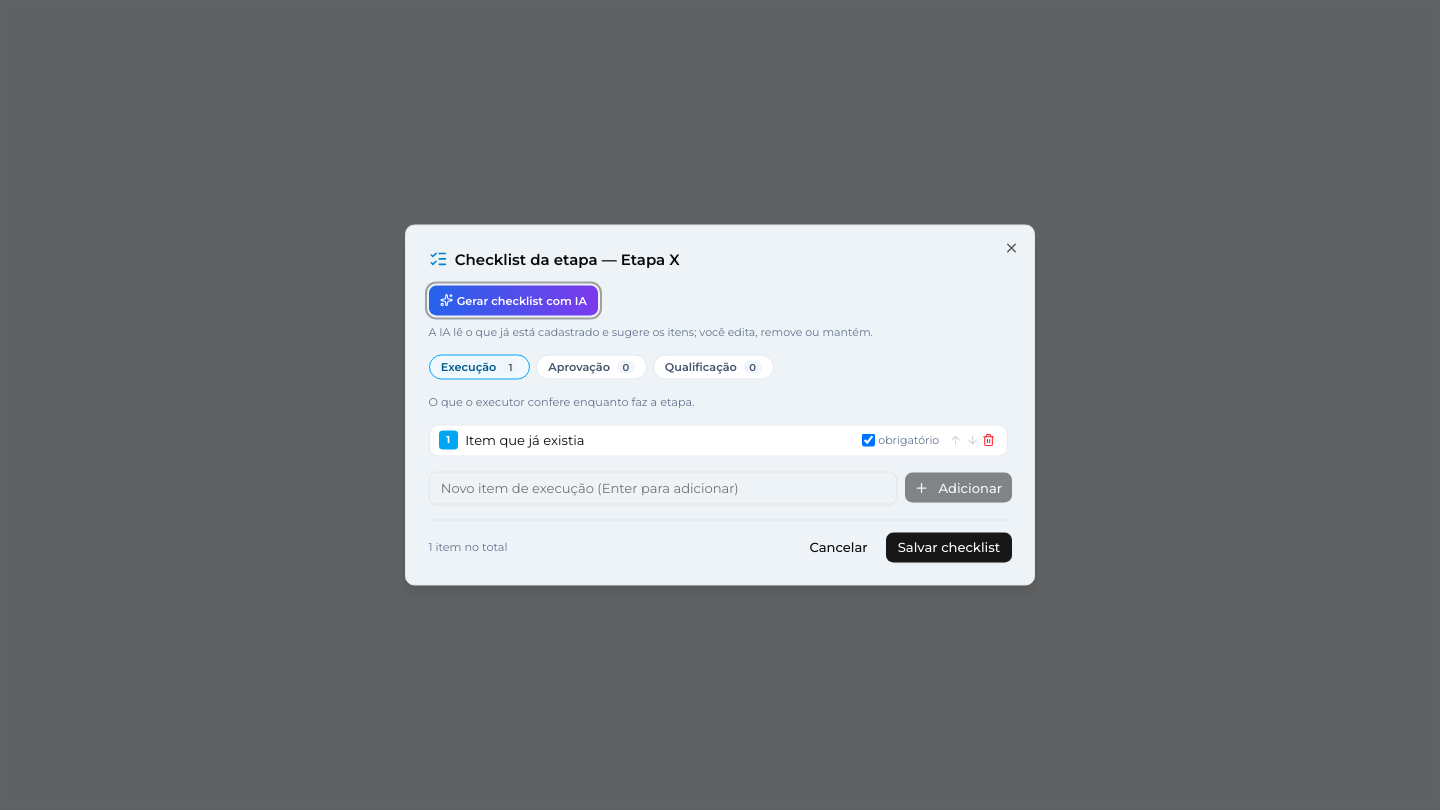
Checklist da etapa · gerar com IA › abre o painel do que será consultado, manda o que já existe e as fontes, adiciona os itens com selo IA e dá para remover
The image size is (1440, 810).
Click the button with test id "checklist-ai-open".
click(513, 300)  # box [428,286,598,316]
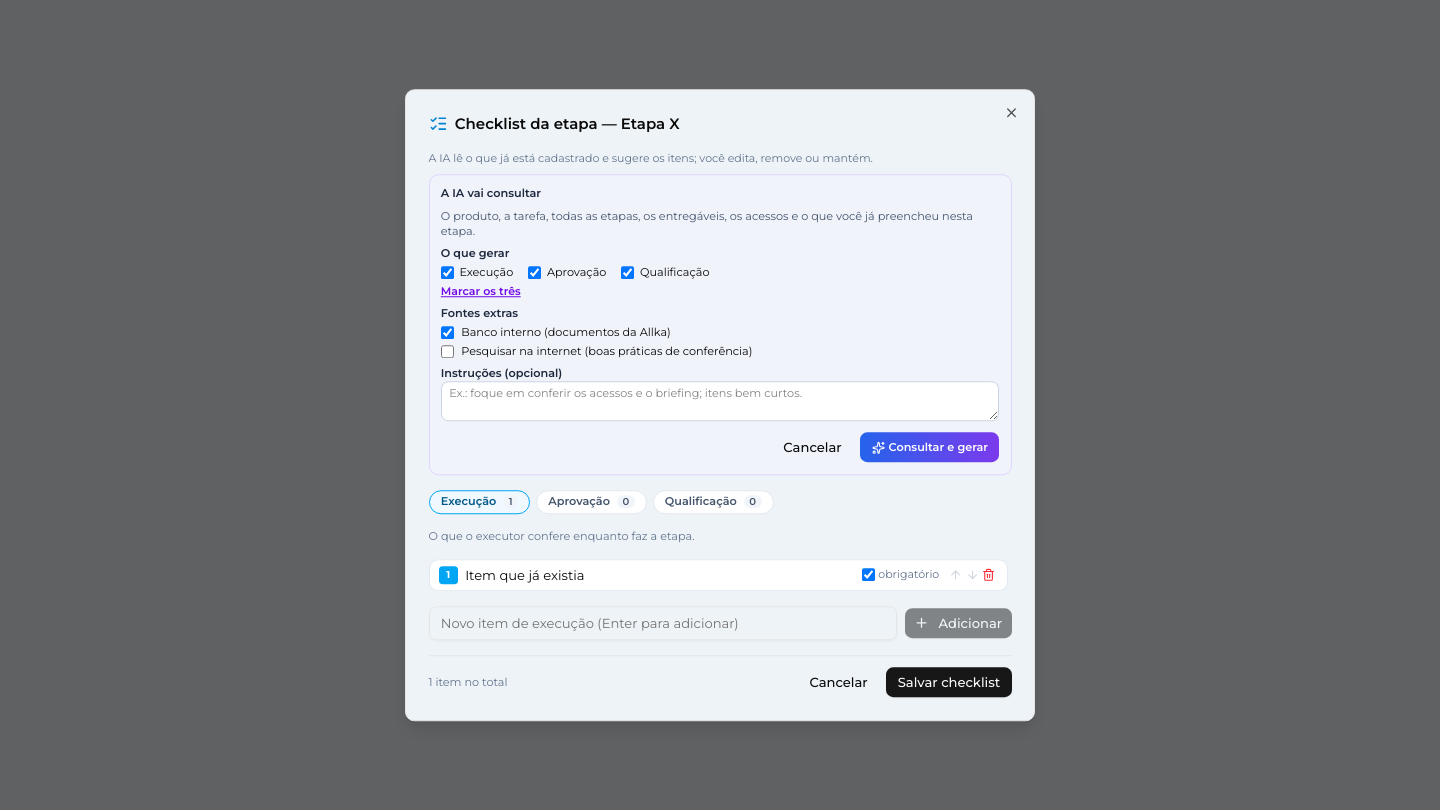
Expected: the element with test id "checklist-ai-panel" shows "produto, a tarefa, todas as etapas", [441,209,973,238]
Click the checkbox labelled "Pesquisar na internet (boas práticas de conferência)".
click(447, 352)  # box [441,345,454,358]
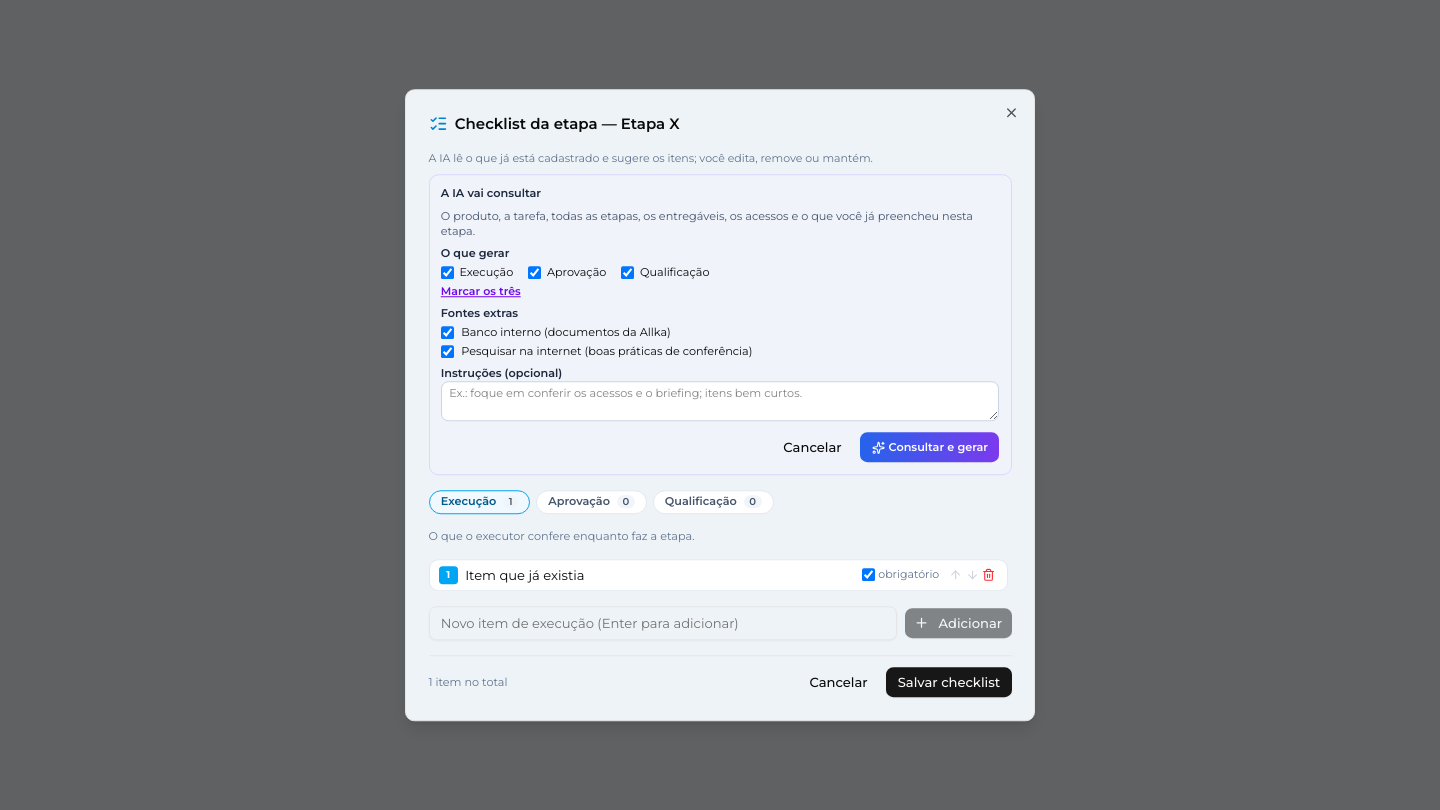
Click the button with test id "checklist-ai-go".
click(930, 448)  # box [860,432,999,462]
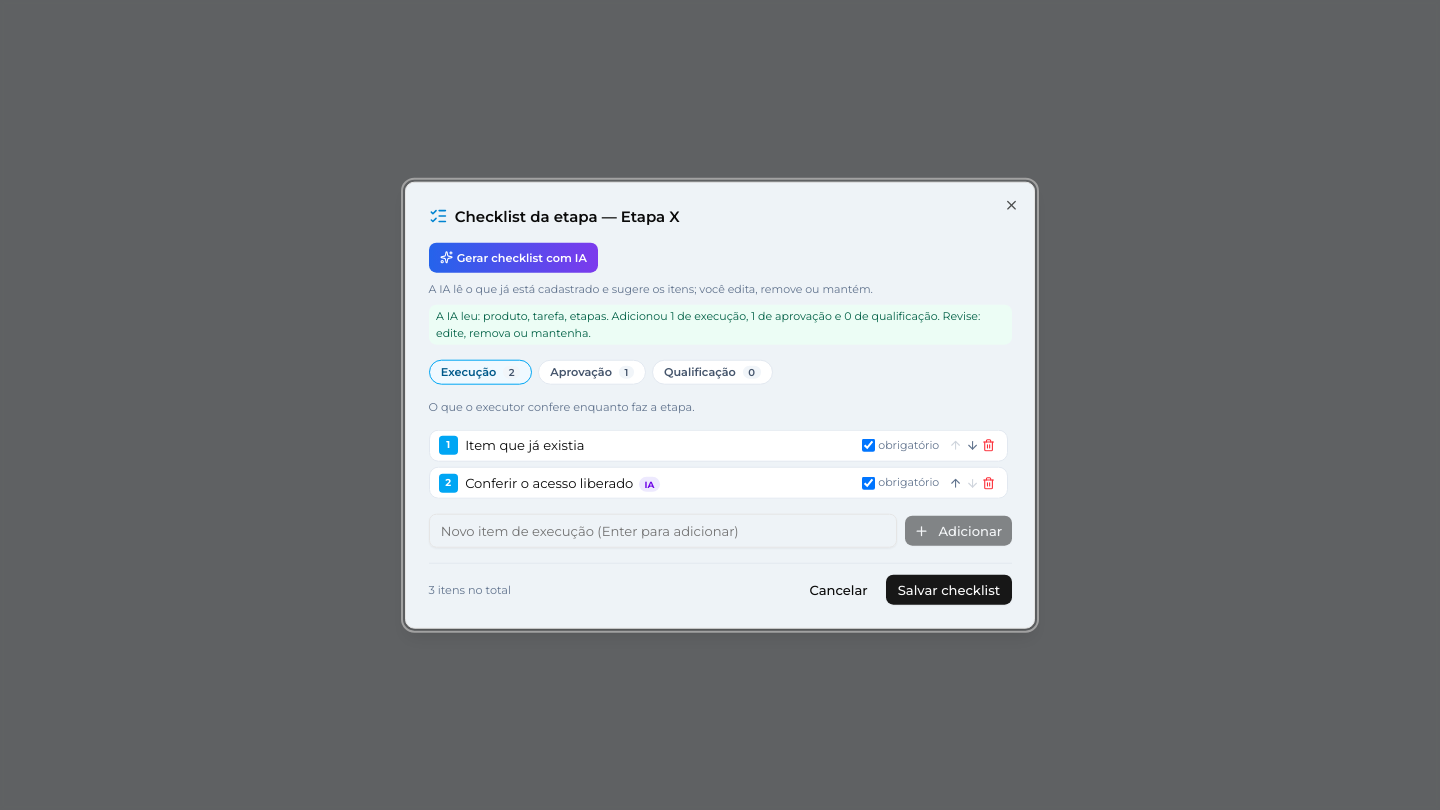
Expected: the message with test id "checklist-ai-note" is shown, [428,304,1012,345]
Expected: the text "Conferir o acesso liberado" is shown, [465,474,633,490]
Expected: the number of elements titled "Sugerido pela IA: revise" is 1, [639,477,660,491]
Click the button named "Remover item" in the row of "Conferir o acesso liberado".
click(989, 483)  # box [980,474,997,491]
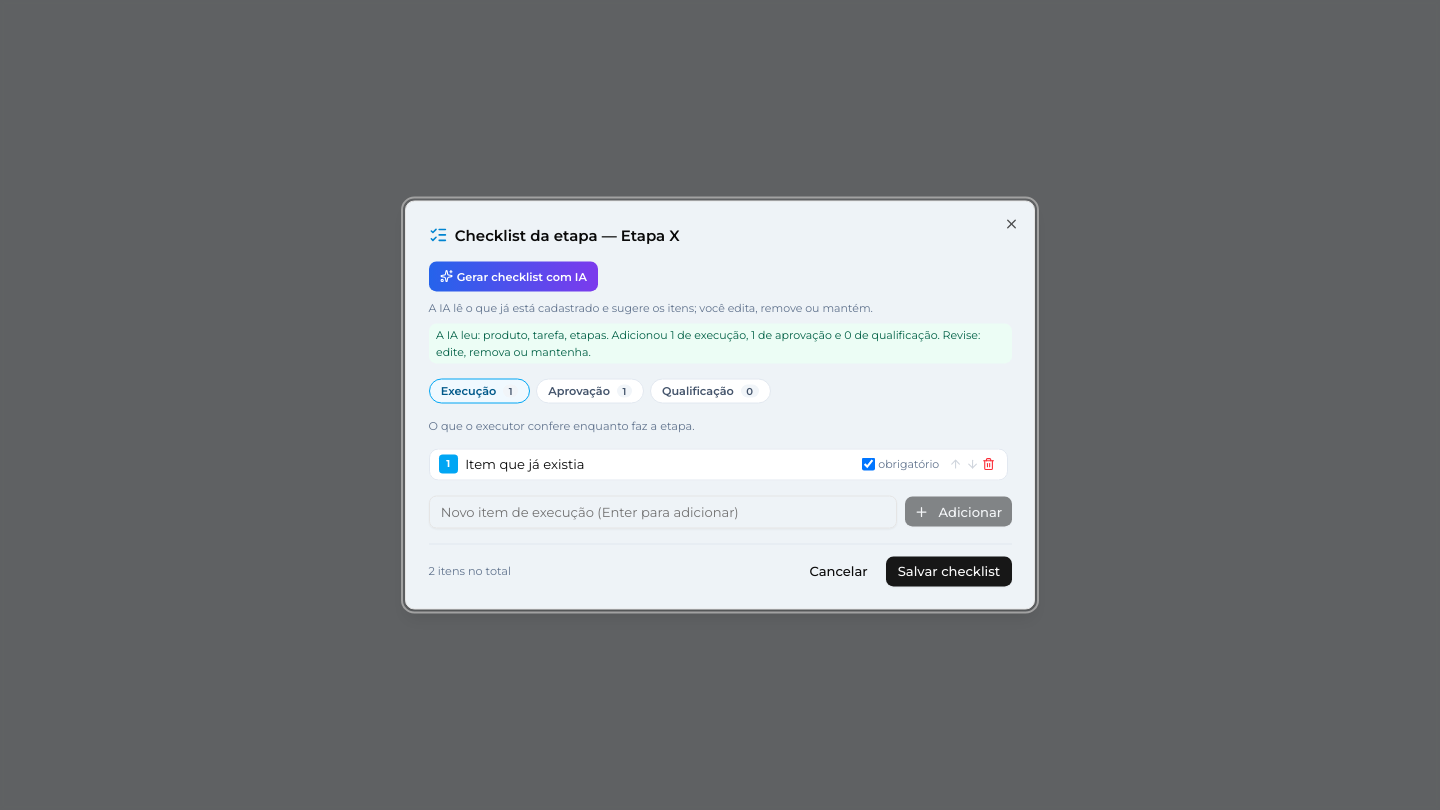
Expected: the text "Conferir o acesso liberado" is gone
